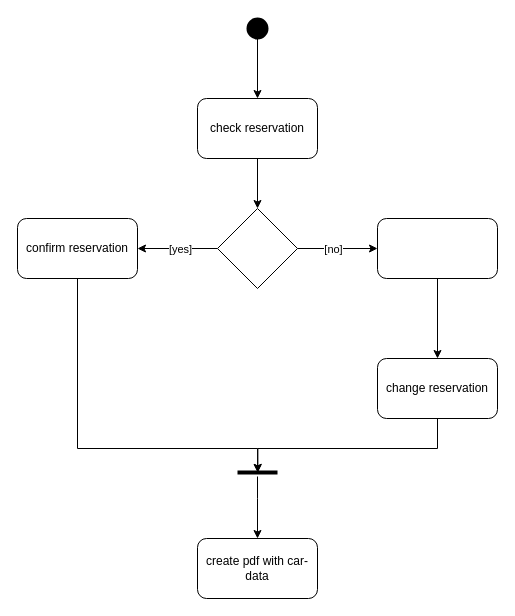
The diagram is 515 pixels wide and 616 high, and some of its shapes have lost their labels. The shapes that lost their labels are listed below. From the top down, each one's centre as x and y in pixels, then its label:
the point at 257,248: is car available?
the point at 437,248: offer a higher rated car
